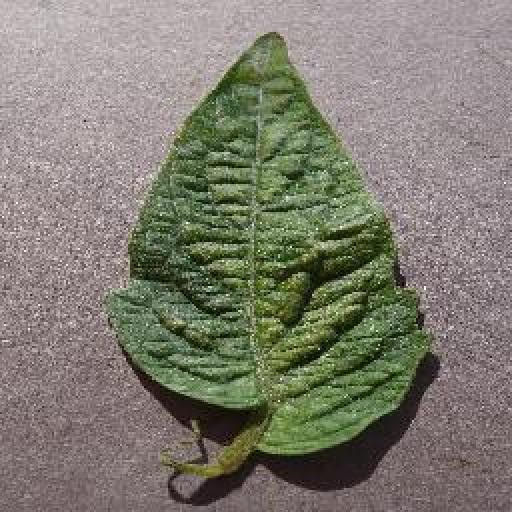Spider Mites: (106, 27, 430, 457)
